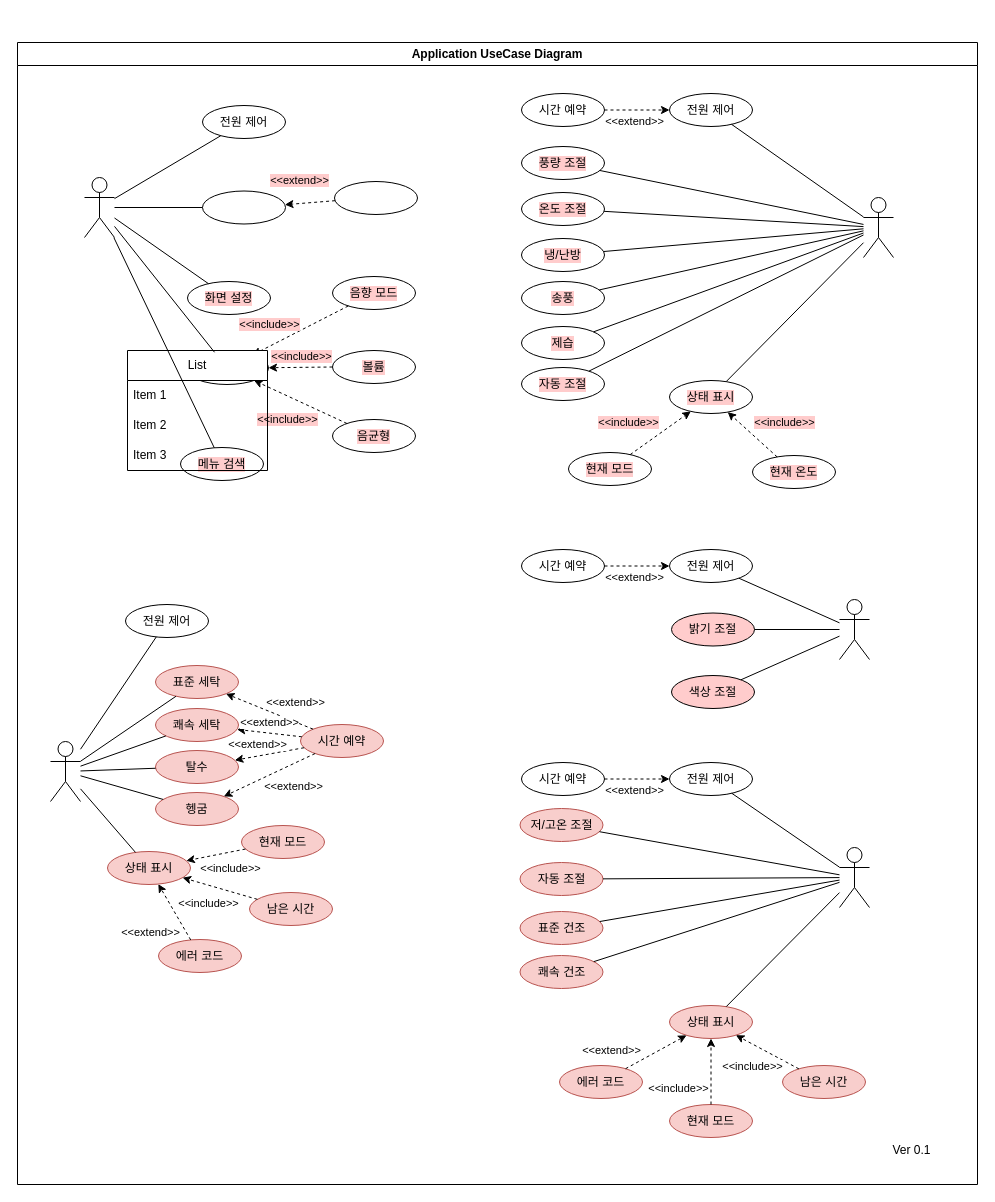
This 995x1202 diagram has some shape labels left out. Each missing label, with the centre of its shape:
IPTV: (x=376, y=197)
TV: (x=99, y=207)
건조기: (x=854, y=877)
세탁기: (x=65, y=771)
에어컨: (x=878, y=227)
조명: (x=854, y=629)
채널 변경: (x=244, y=207)
